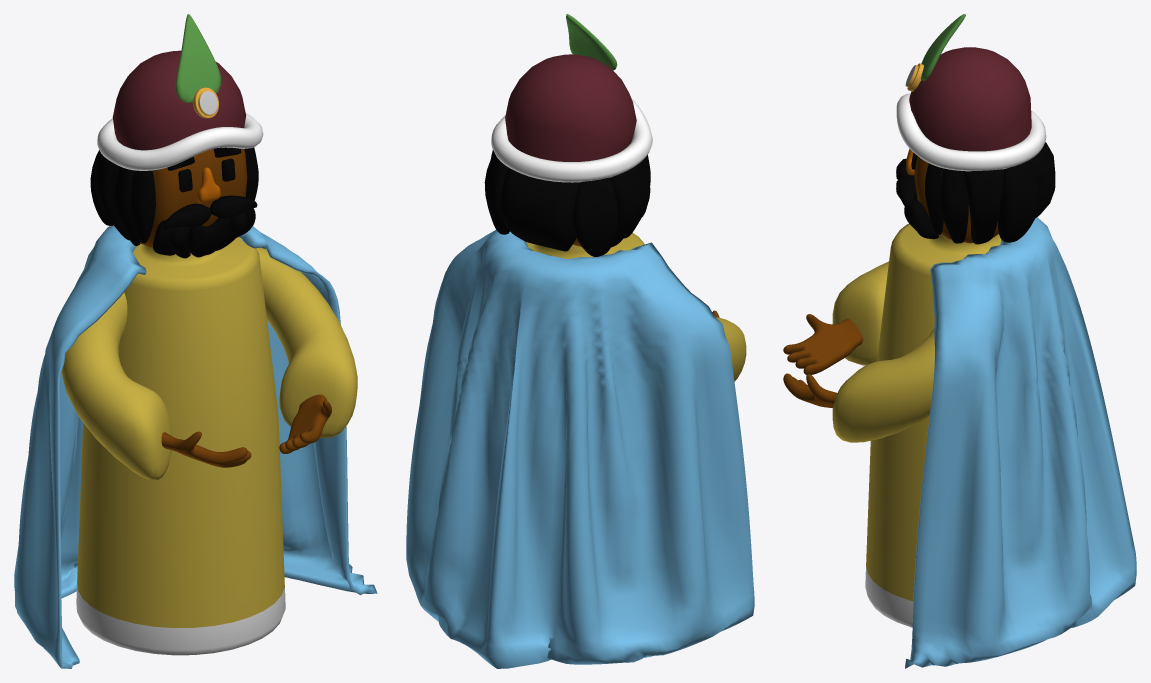
The model's file is Baltasar arreglado.fbx.
The picture shows the model from 3 angles, left to right: view 1: azimuth 30°, elevation 25°; view 2: azimuth 150°, elevation 25°; view 3: azimuth 270°, elevation 25°; orthographic projection. The views are drawn at different scales.
Visible parts, largest first — view 1: Cube.025; view 2: Cube.025; view 3: Cube.025.
Part boxes in pixels (x1,y1,x2,y2): Cube.025: [14, 14, 377, 668]; Cube.025: [406, 14, 754, 668]; Cube.025: [783, 14, 1136, 668].
Bounding box in the file's own units: 141 × 253 × 139.
